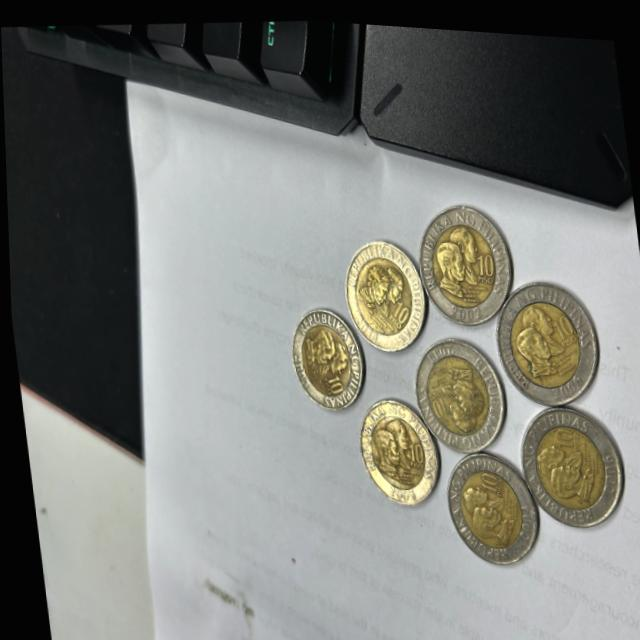10_Old_Front: (471, 243, 493, 274), (474, 463, 495, 489), (551, 415, 572, 441), (549, 307, 569, 333), (425, 391, 445, 414), (386, 296, 405, 320), (321, 367, 340, 390), (402, 437, 421, 458)
